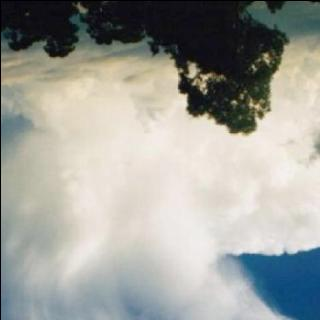Cumulonimbus: (0, 46, 320, 320)
